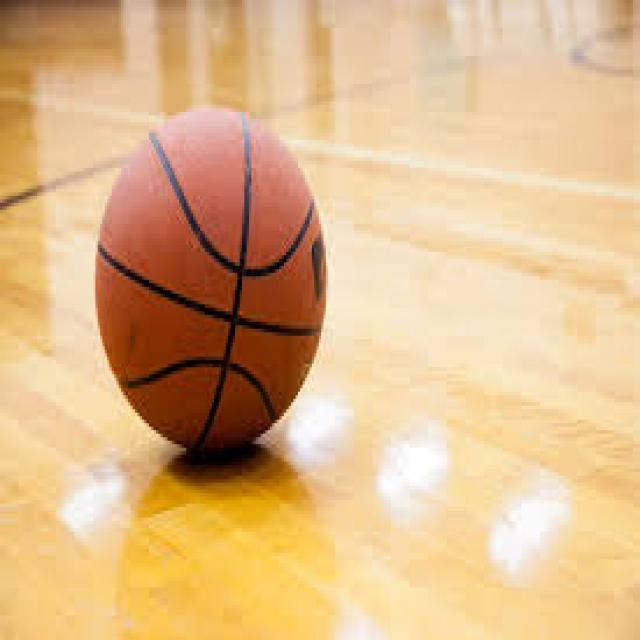rim: (89, 116, 328, 466)
